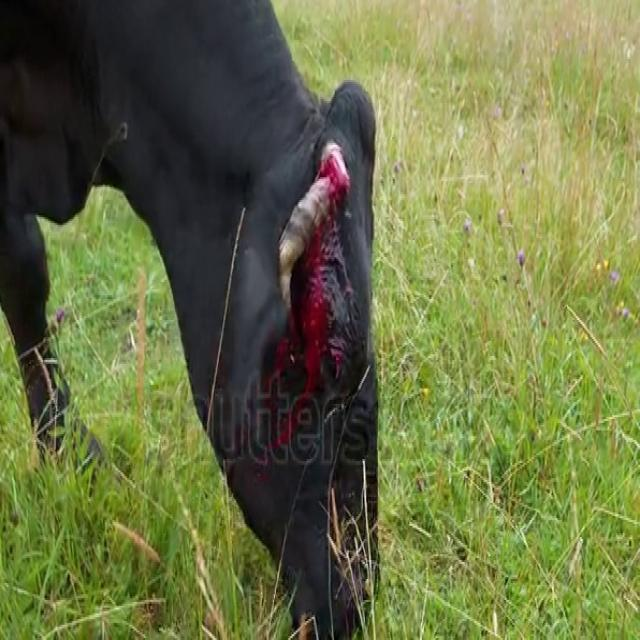injured-animals: (0, 0, 384, 638)
